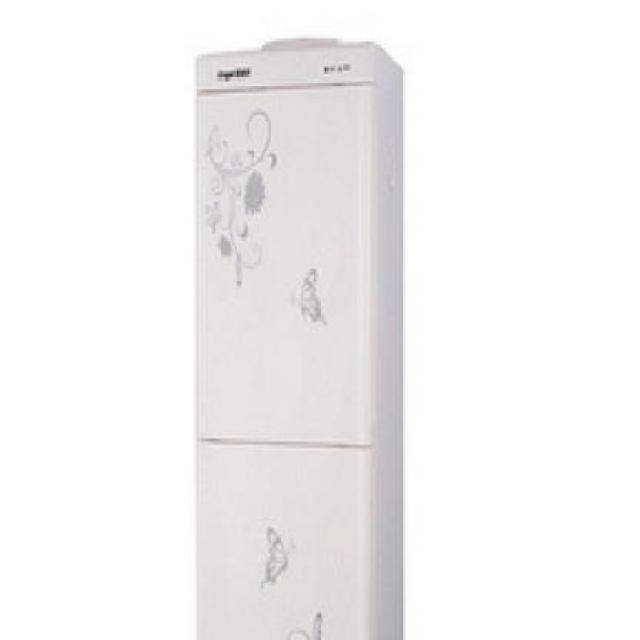cooler: (192, 34, 407, 640)
